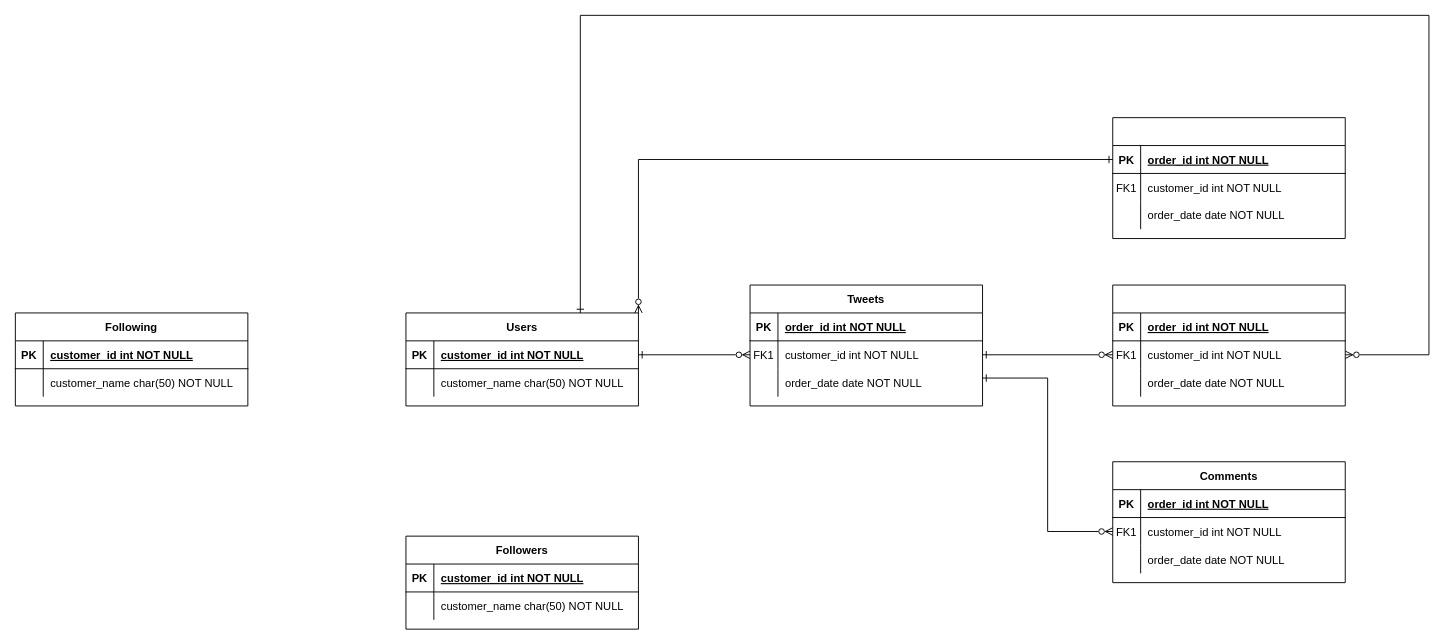
The diagram is 1444 pixels wide and 644 high, and some of its shapes have lost their labels. Here are the shapes that lost their labels. From the top down, the box of each, then its label:
(1112, 117, 1345, 239): Retweets
(1112, 284, 1345, 406): Likes
